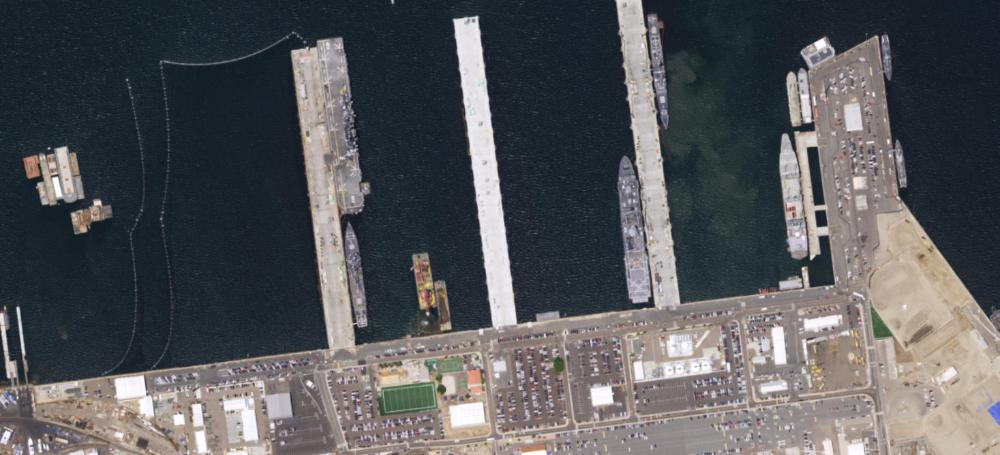amphiby: (618, 153, 655, 307)
destroyer: (648, 13, 681, 133)
fregate: (343, 225, 380, 332)
pha: (317, 36, 373, 216)
tender: (776, 131, 814, 263)
